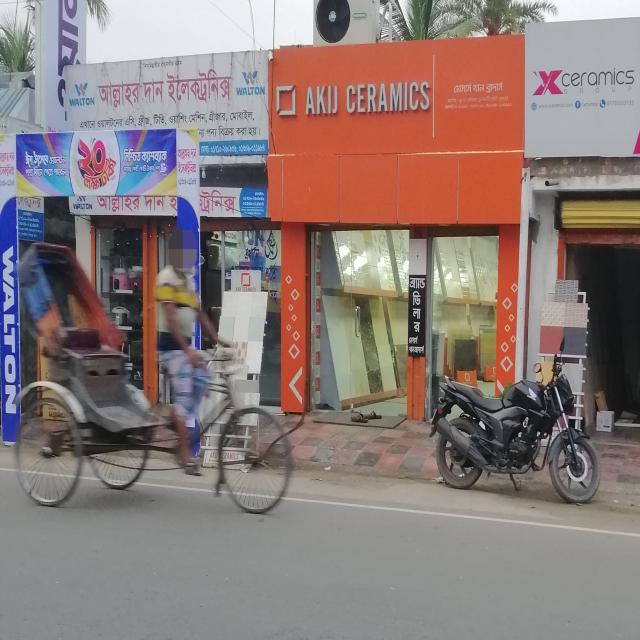Motorbike: (428, 337, 601, 518)
Rickshaw: (16, 237, 298, 520)
